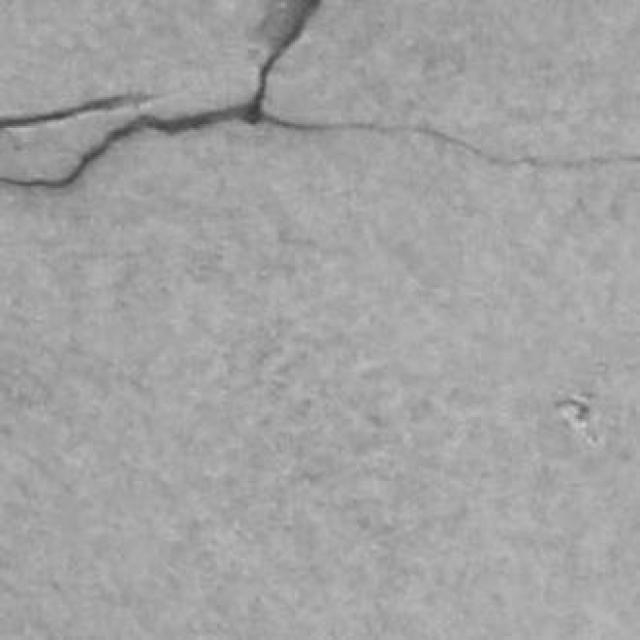crack: (0, 0, 639, 190), (0, 0, 321, 188), (262, 113, 639, 170), (0, 103, 250, 188), (247, 0, 321, 124), (0, 94, 153, 129)
